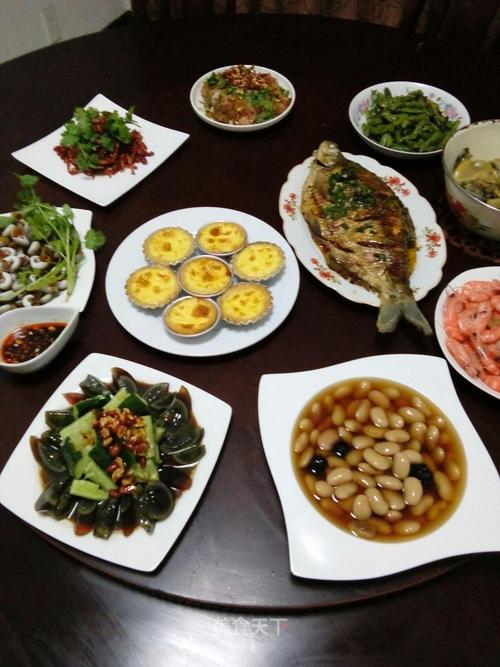food: (240, 349, 496, 604), (15, 349, 201, 574), (264, 140, 460, 325), (103, 206, 302, 347), (31, 99, 192, 191), (339, 72, 461, 170), (187, 42, 297, 145)
